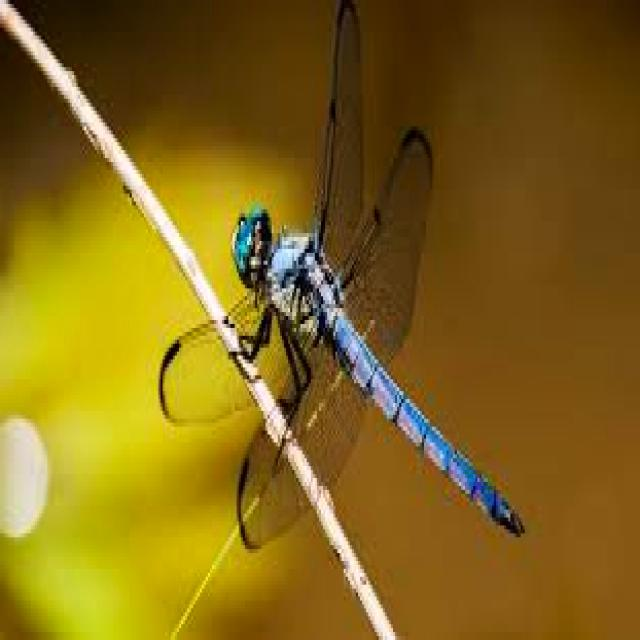dragonfly: (163, 0, 523, 545)
